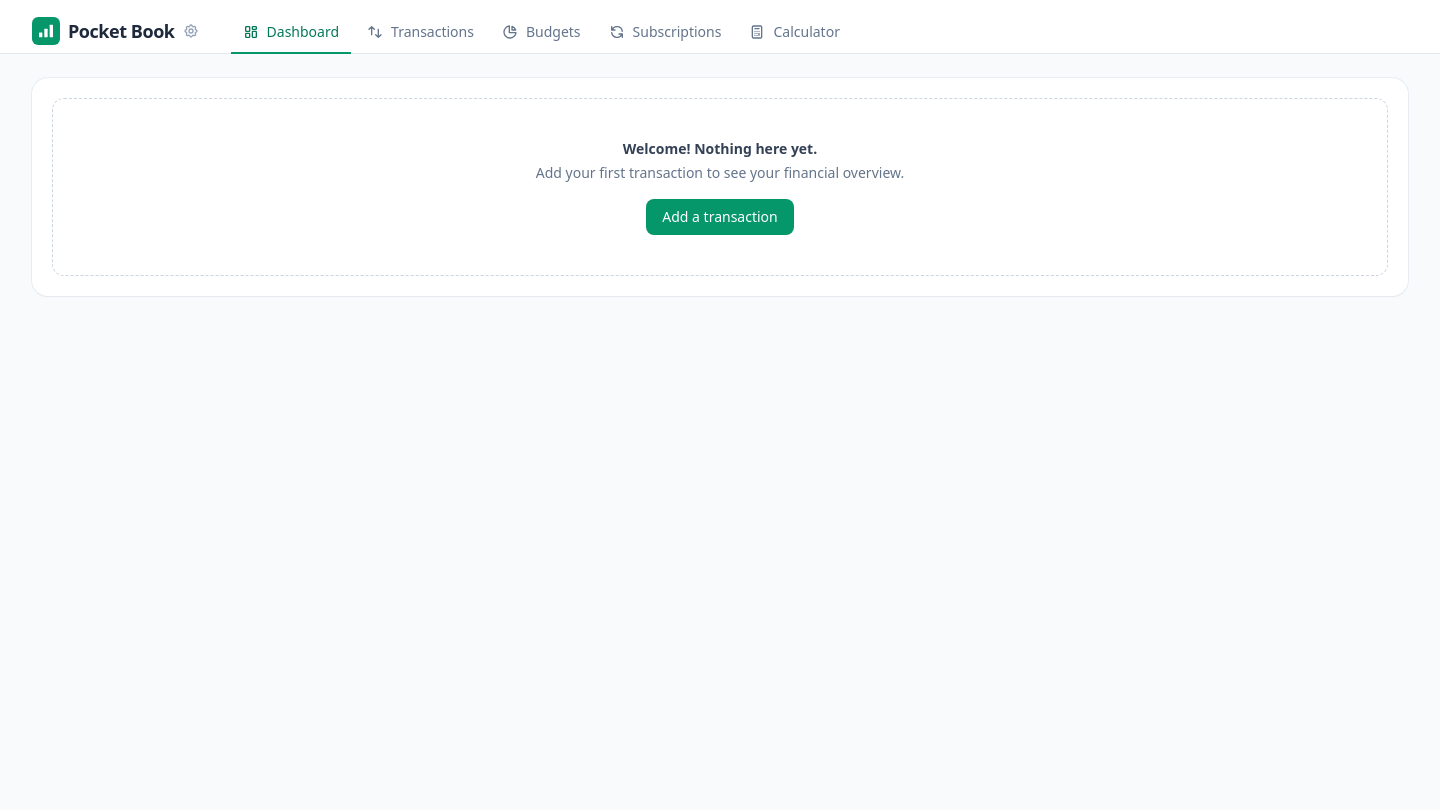
Test case: App (smoke test through the real screens) › an amount error disappears as soon as the amount is corrected
Click the tab "Transactions". click: coordinates (421, 33)
box: x1=355 y1=12 x2=486 y2=54
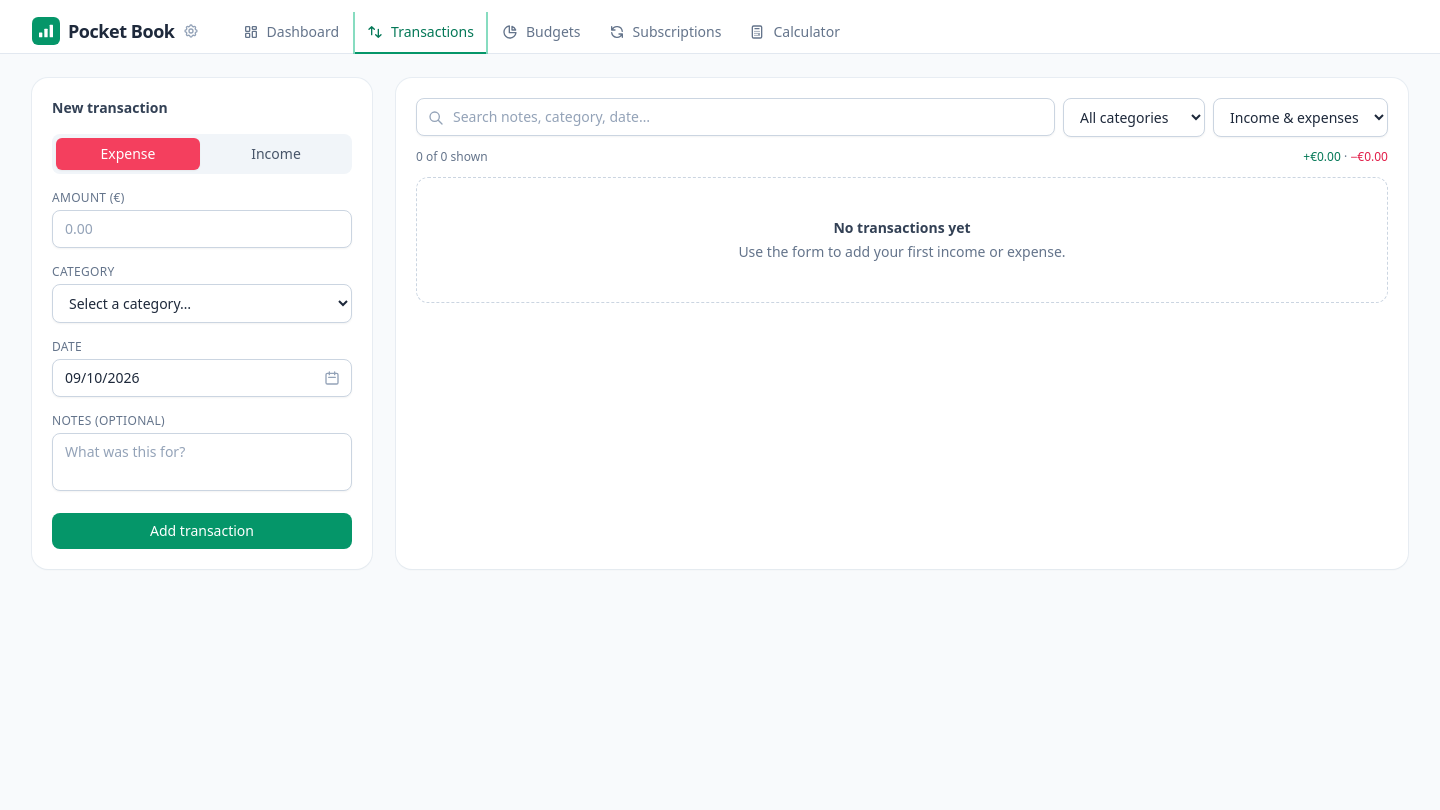
Click the button "Add transaction". click: coordinates (202, 531)
box: x1=52 y1=513 x2=352 y2=549
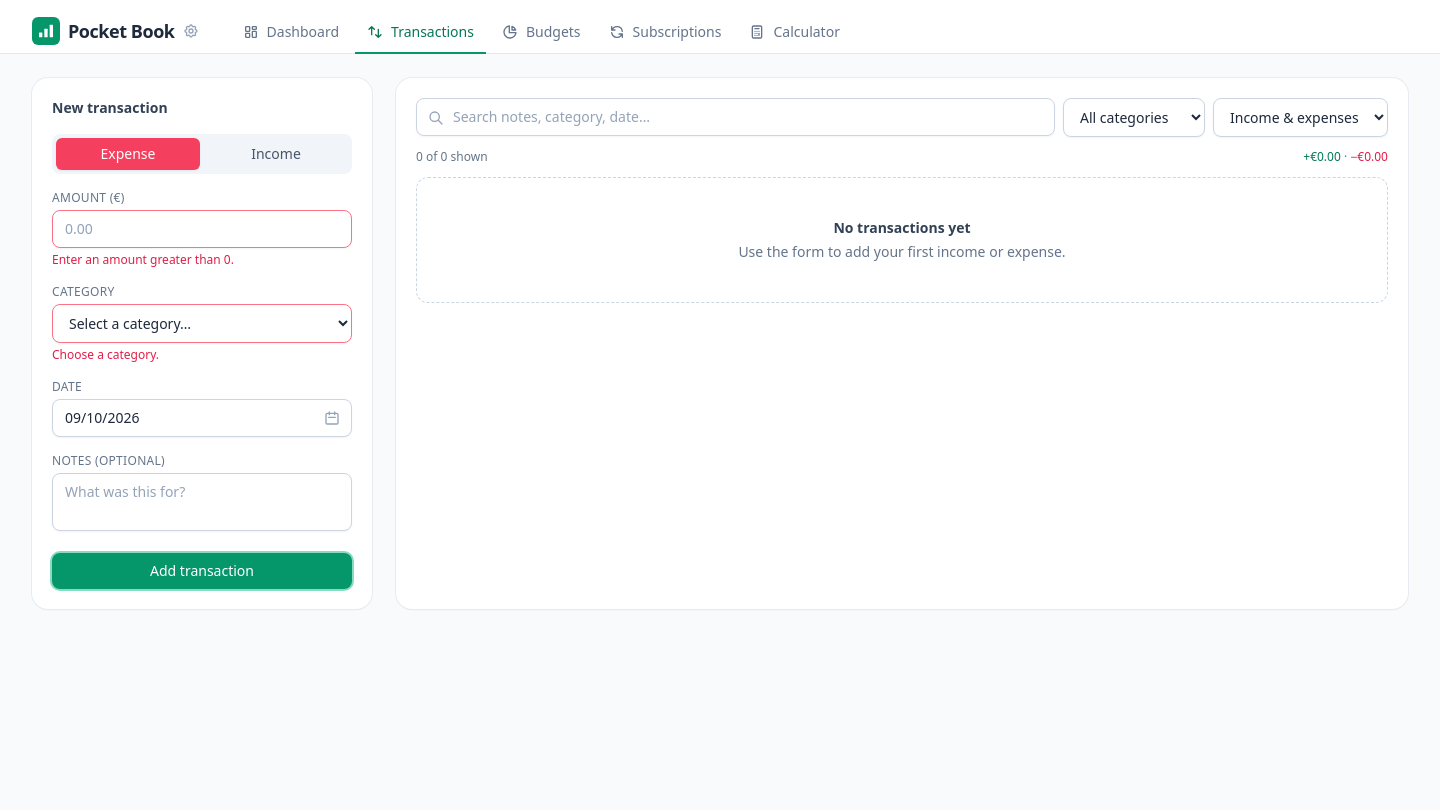
Expected: the text "Enter an amount greater than 0." is shown, x1=52 y1=251 x2=234 y2=268
Type "5" into the field labelled "Amount (€)". click: coordinates (202, 229)
box: x1=52 y1=210 x2=352 y2=248
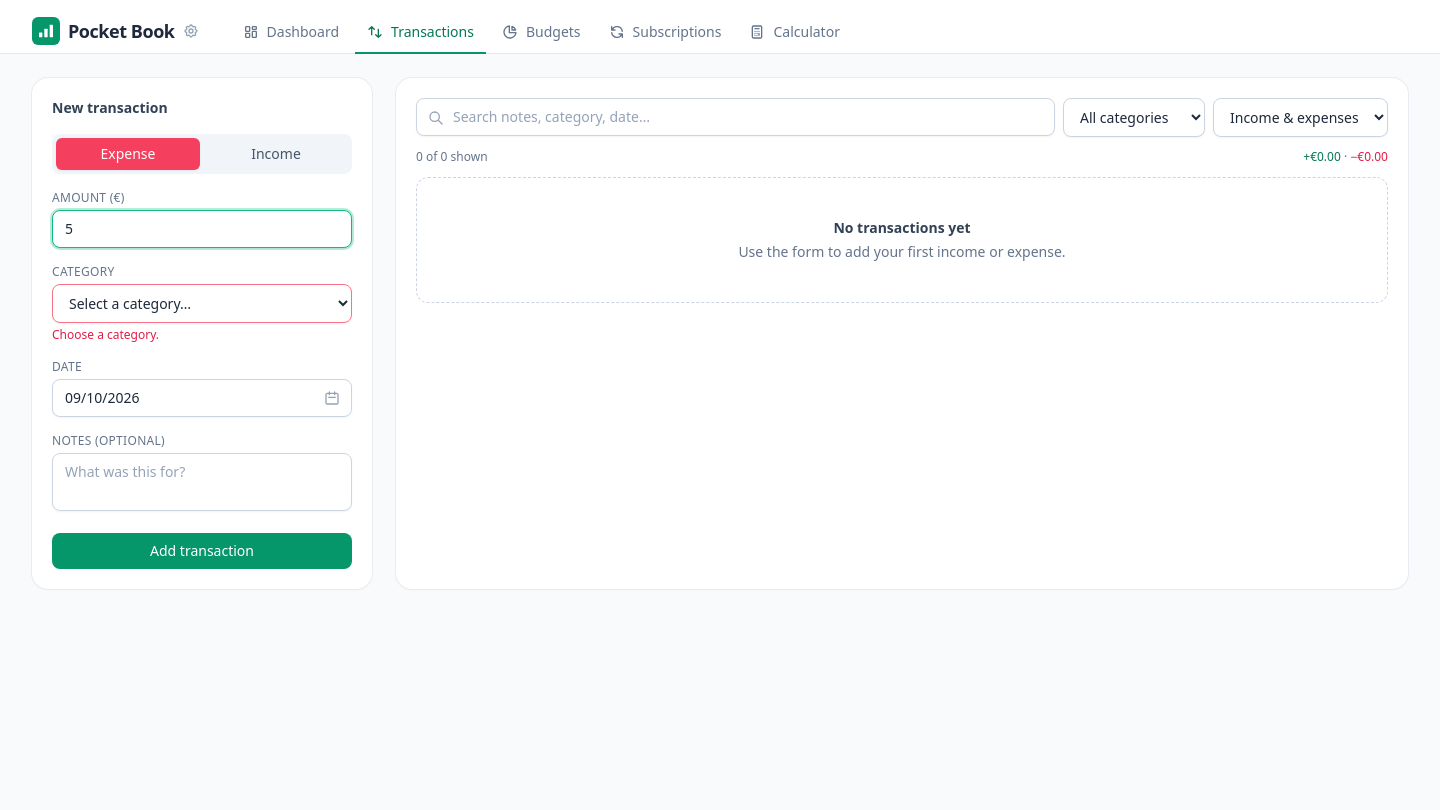
Expected: the text "Choose a category." is shown, x1=52 y1=326 x2=159 y2=343
Expected: the text "amount greater than 0" is gone
